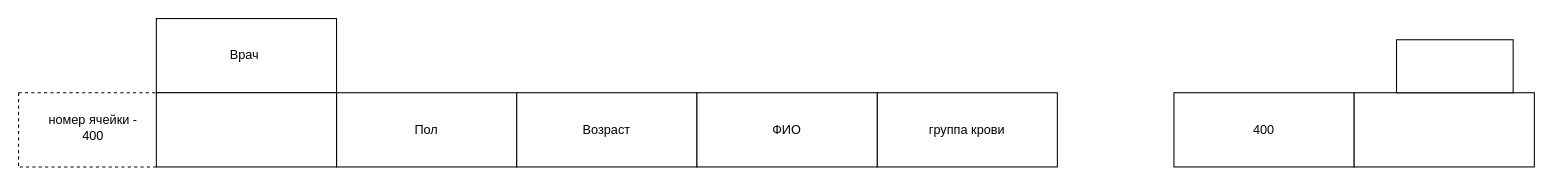
Image size: 1553x187. Some labels were removed from this diagram. The shapes that lost their labels are listed below. From the top down, each one's centre as x and y in pixels, then its label:
[1454,66]: Ключ "Номер"
[246,129]: стаж работы
